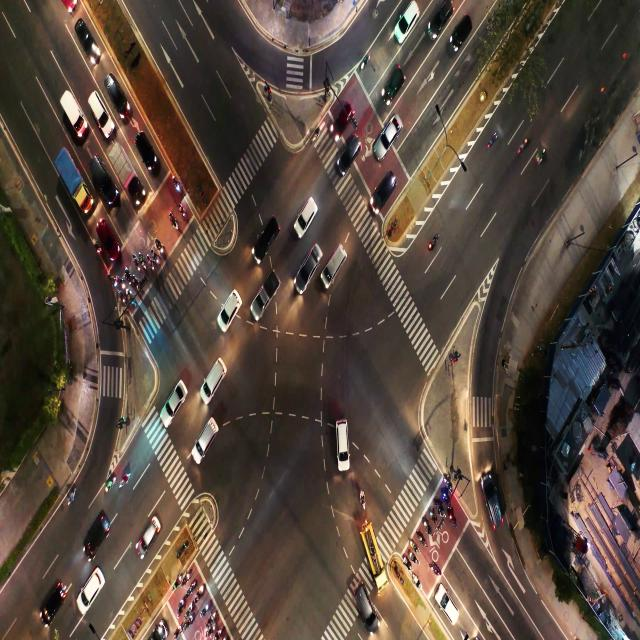bus: (363, 537, 378, 559)
car: (487, 488, 500, 524), (381, 169, 396, 197), (79, 29, 95, 53), (435, 2, 449, 28), (456, 19, 468, 47), (86, 578, 102, 599), (46, 585, 60, 609), (92, 103, 106, 127), (261, 225, 273, 252), (384, 120, 398, 142), (168, 385, 180, 410), (142, 522, 156, 543), (140, 143, 154, 164), (388, 71, 400, 94), (223, 295, 234, 320), (338, 427, 348, 454), (95, 520, 108, 540), (332, 247, 346, 265), (110, 85, 122, 106), (361, 592, 372, 614), (208, 366, 220, 386), (344, 137, 354, 160), (304, 258, 314, 280), (406, 4, 416, 25), (442, 596, 452, 616), (203, 426, 215, 442), (104, 225, 115, 242), (98, 171, 108, 189), (337, 106, 345, 125), (308, 200, 314, 214)
motorcycle: (120, 471, 132, 493), (362, 52, 371, 70), (429, 232, 437, 252), (536, 148, 546, 164), (486, 135, 496, 149), (68, 487, 75, 506), (106, 476, 112, 493), (313, 128, 320, 140), (518, 141, 525, 152), (361, 491, 365, 509), (419, 534, 426, 544), (414, 578, 420, 588), (433, 564, 438, 574), (179, 598, 184, 608), (175, 184, 181, 192), (159, 245, 164, 254), (175, 579, 180, 588), (175, 626, 180, 635), (210, 625, 215, 634), (452, 513, 456, 524), (431, 512, 436, 520), (96, 245, 101, 253), (143, 262, 147, 272), (120, 293, 124, 303), (219, 625, 223, 635), (445, 494, 449, 503), (412, 554, 417, 561), (127, 275, 132, 282), (185, 572, 190, 579), (448, 481, 452, 489), (426, 524, 430, 532), (413, 542, 417, 550), (182, 211, 186, 219), (151, 264, 155, 272), (127, 292, 131, 300), (114, 280, 118, 288), (199, 586, 203, 594), (190, 583, 195, 589), (205, 604, 210, 610), (173, 221, 177, 228), (135, 281, 139, 288), (188, 616, 192, 623), (189, 601, 192, 610), (156, 258, 160, 264), (137, 263, 140, 271), (212, 613, 215, 620), (440, 506, 443, 512), (406, 561, 410, 565), (123, 282, 125, 287)
truck: (257, 281, 270, 308), (66, 170, 78, 197), (68, 102, 80, 122), (123, 161, 132, 187)
